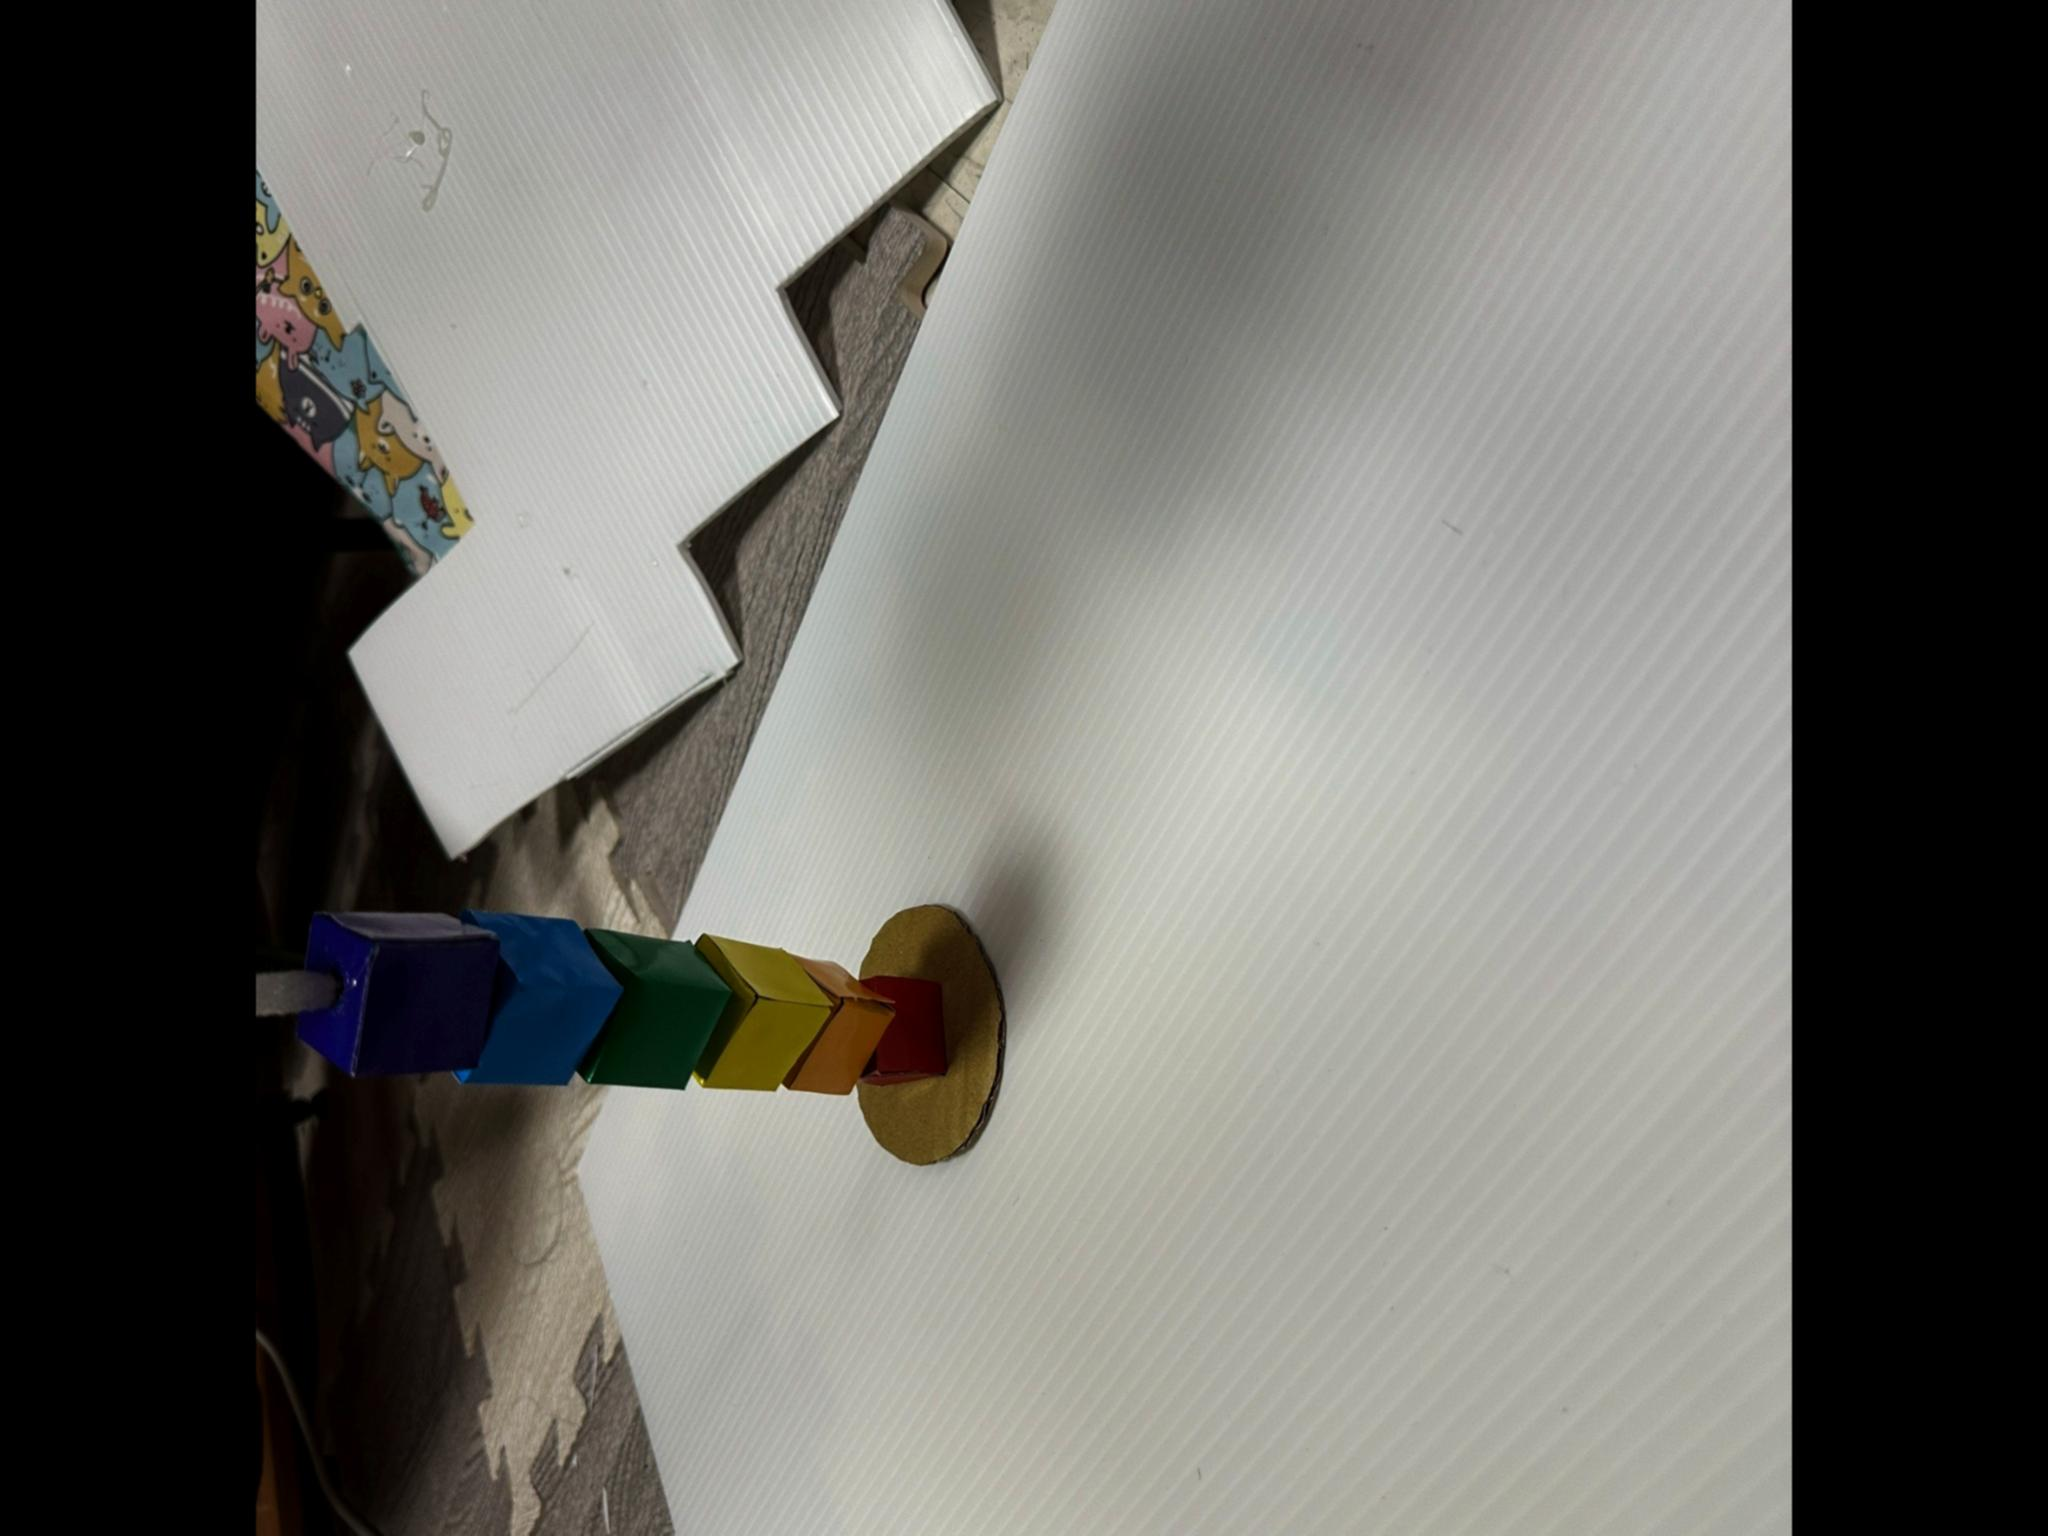base: (858, 904, 1003, 1163)
cube: (297, 912, 500, 1076), (456, 910, 621, 1083), (576, 929, 731, 1087), (695, 936, 835, 1087), (784, 962, 895, 1092), (861, 975, 947, 1084)
